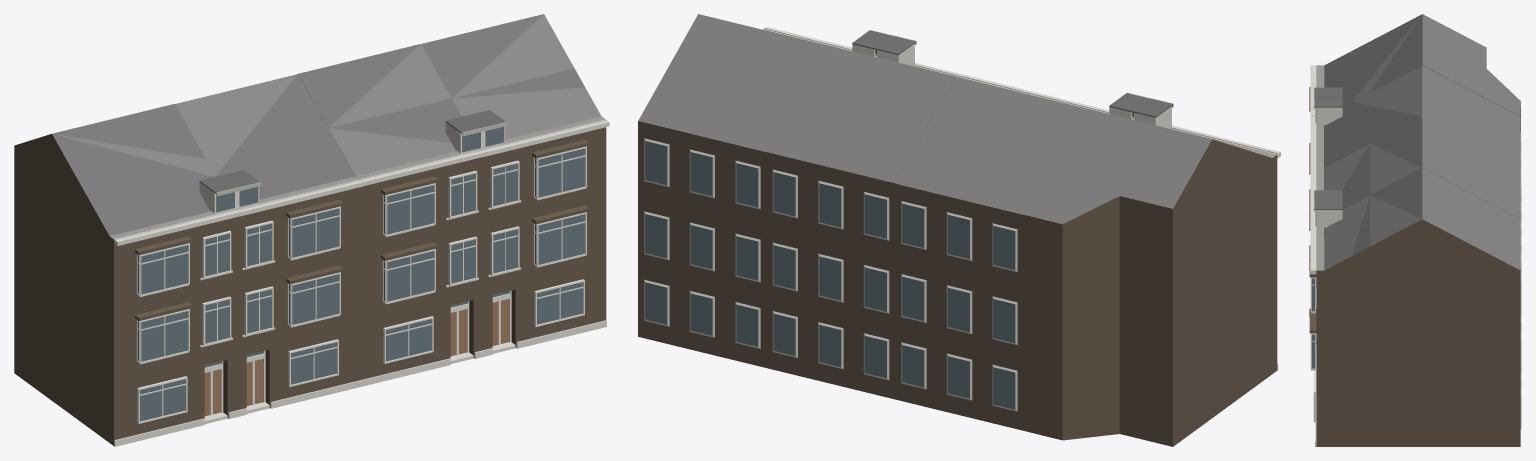
File: chunk-face-treslong-5-19-a.glb
3 renders of one model, left to right at view 1: azimuth 30°, elevation 25°; view 2: azimuth 150°, elevation 25°; view 3: azimuth 270°, elevation 25°, orthographic. The views are drawn at different scales.
Visible parts, largest first — view 1: face-treslong-5-19-a; view 2: face-treslong-5-19-a; view 3: face-treslong-5-19-a.
Boxes of the visible parts, bbox=[...] form: face-treslong-5-19-a: bbox=[14, 14, 609, 446]; face-treslong-5-19-a: bbox=[638, 14, 1280, 446]; face-treslong-5-19-a: bbox=[1309, 14, 1521, 446].
Size of the model in its own units: 24.8 by 12.86 by 10.84.
